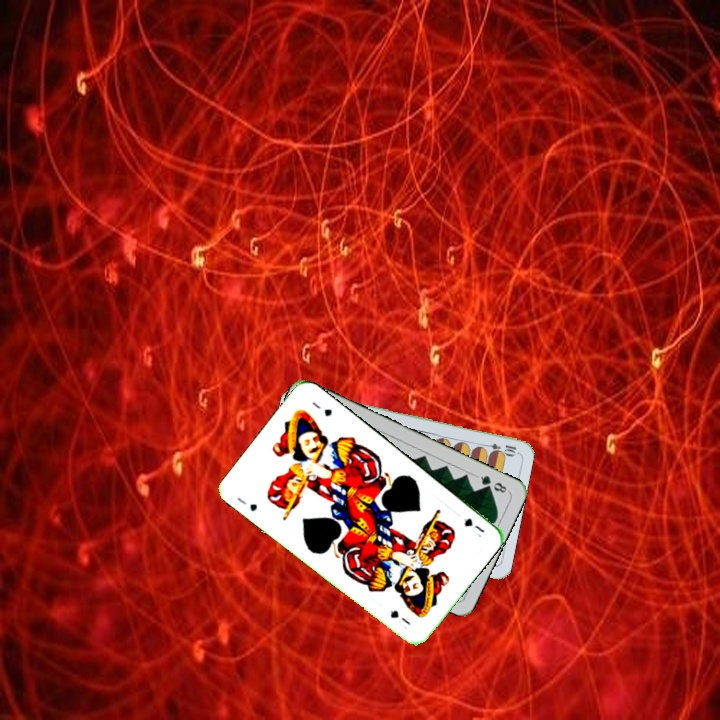E10: (478, 439, 519, 457)
G8: (473, 471, 511, 495)
GU: (460, 514, 487, 540), (233, 493, 260, 514)
